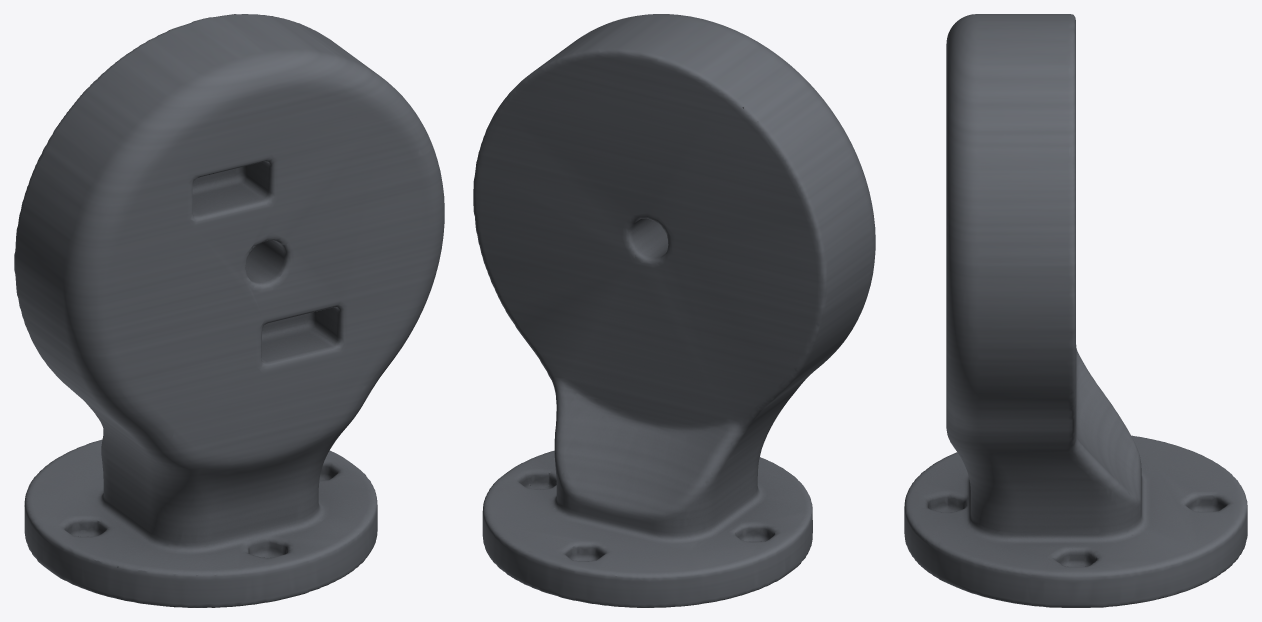
File: left_elbow_midle.glb
3 renders of one model, left to right at view 1: azimuth 30°, elevation 25°; view 2: azimuth 150°, elevation 25°; view 3: azimuth 270°, elevation 25°, orthographic. The views are drawn at different scales.
Parts seen in each view (by area): view 1: left_elbow_midle; view 2: left_elbow_midle; view 3: left_elbow_midle.
Boxes of the visible parts, <box> form: left_elbow_midle: <box>14,14,444,607</box>; left_elbow_midle: <box>473,14,875,607</box>; left_elbow_midle: <box>904,14,1247,607</box>.
Size of the model in its own units: 0.0547 by 0.0717 by 0.0443.
Materials: 1 (1 with a texture image).
